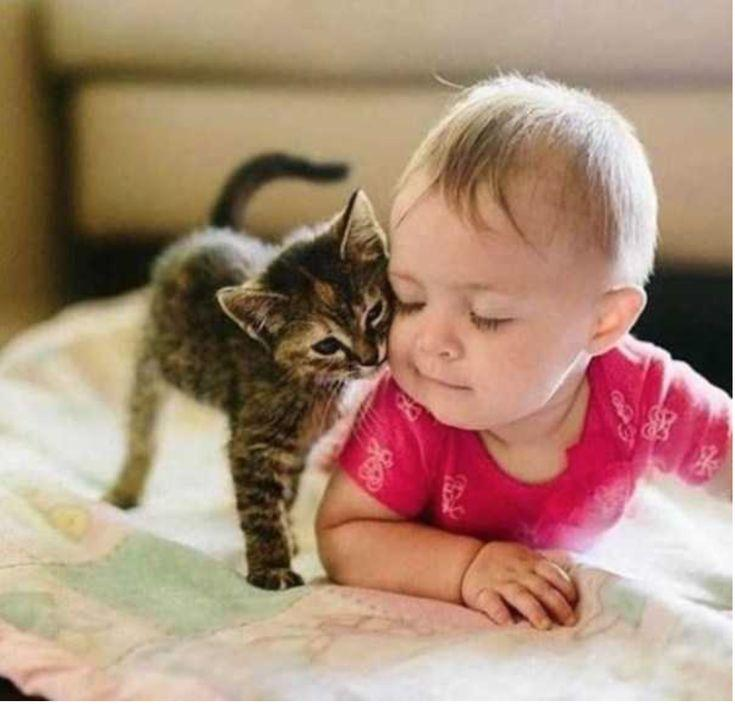kedo: (118, 188, 396, 589)
